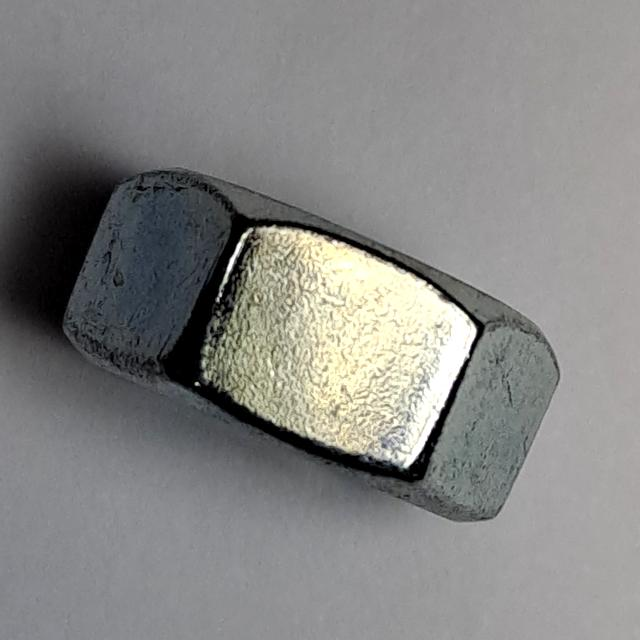Side_Excellent: (53, 158, 575, 534)
